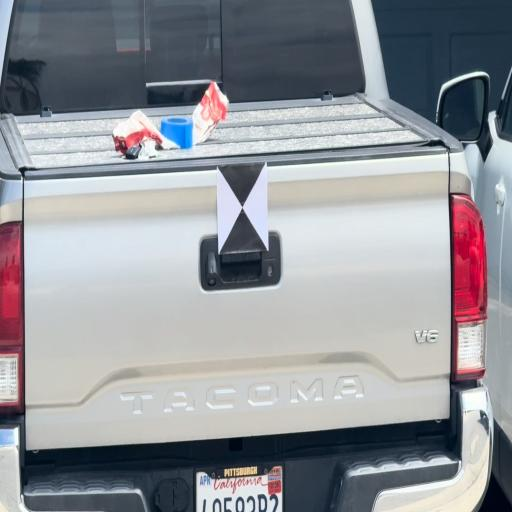target: (216, 162, 269, 254)
